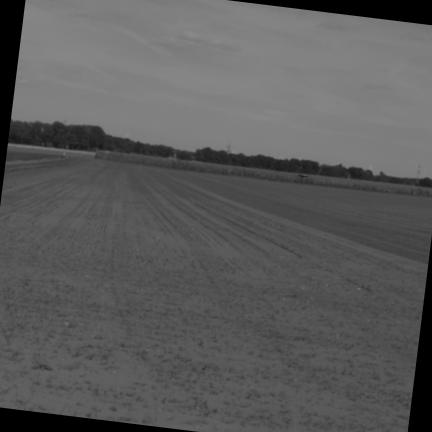Shahed: (296, 173, 309, 178)
